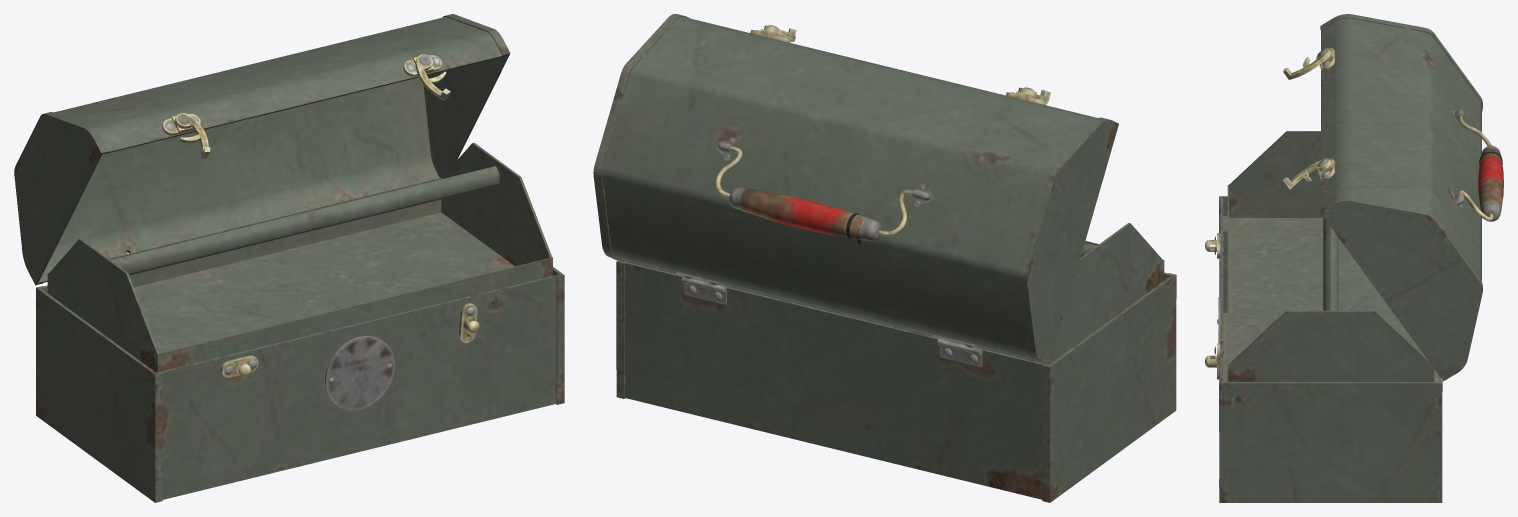
The model's file is toolbox.glb.
The picture shows the model from 3 angles, left to right: view 1: azimuth 30°, elevation 25°; view 2: azimuth 150°, elevation 25°; view 3: azimuth 270°, elevation 25°; orthographic projection. The views are drawn at different scales.
Visible parts, largest first — view 1: metal_toolbox; view 2: metal_toolbox; view 3: metal_toolbox.
Boxes of the visible parts, box(x1,y1,x2,y2) form: metal_toolbox: box(14, 14, 564, 502); metal_toolbox: box(593, 14, 1176, 502); metal_toolbox: box(1205, 14, 1503, 502).
Size of the model in its own units: 0.4 by 0.3047 by 0.2705.
1 material, 1 textured.
